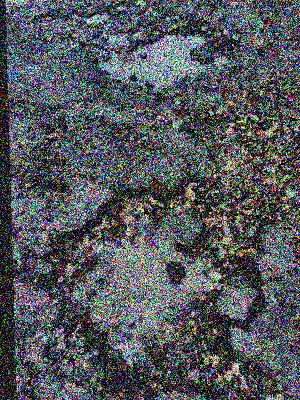pothole: (37, 185, 281, 400), (90, 20, 240, 93)
